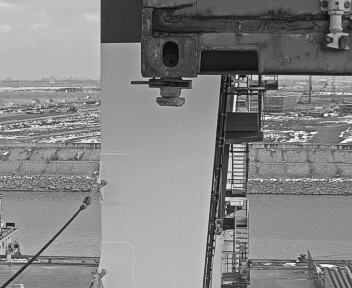twist_lock_1: (138, 70, 198, 118)
